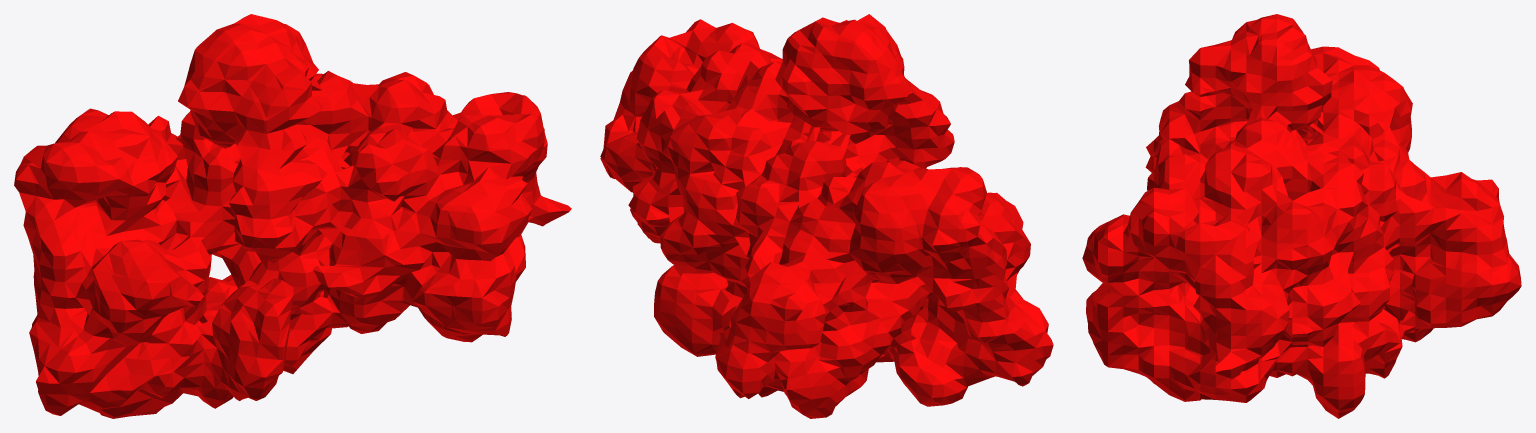
File: 26S_protease_regulatory_subuni_coarse.dae
3 renders of one model, left to right at view 1: azimuth 30°, elevation 25°; view 2: azimuth 150°, elevation 25°; view 3: azimuth 270°, elevation 25°, orthographic. The views are drawn at different scales.
Visible parts, largest first — view 1: 26S_protease_regulatory_subuni; view 2: 26S_protease_regulatory_subuni; view 3: 26S_protease_regulatory_subuni.
Part boxes in pixels (x1,y1,x2,y2): 26S_protease_regulatory_subuni: (14,14,571,418); 26S_protease_regulatory_subuni: (600,14,1053,418); 26S_protease_regulatory_subuni: (1082,14,1521,418).
Bounding box in the file's own units: 273 × 191 × 217.
